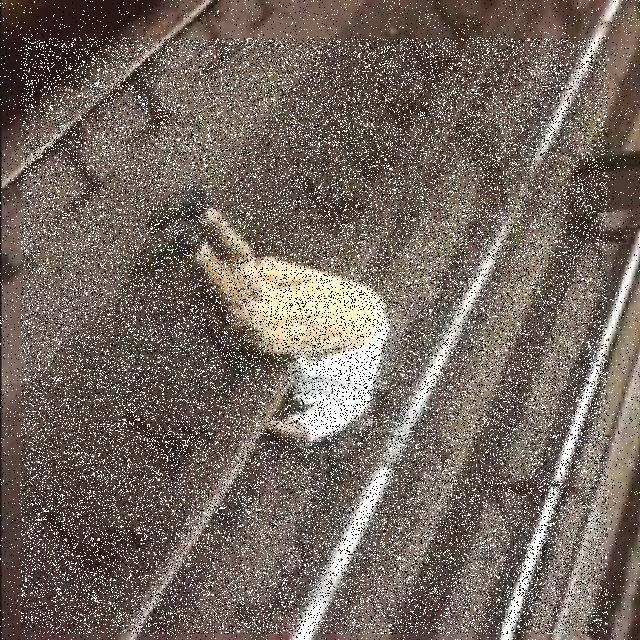rail: (89, 1, 640, 640), (469, 228, 640, 638)
